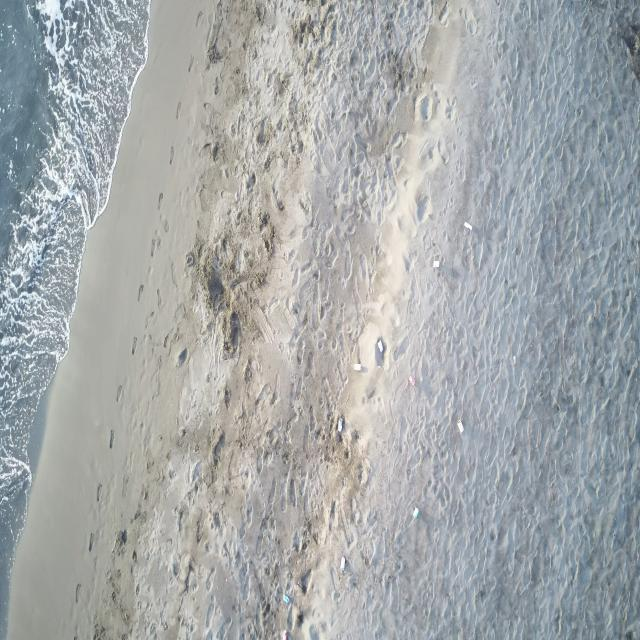Garbage: (375, 336, 384, 366), (336, 415, 344, 432), (375, 337, 384, 352), (108, 428, 114, 447), (456, 417, 463, 432), (283, 592, 291, 604), (407, 375, 415, 386), (352, 363, 362, 371), (464, 220, 471, 230), (412, 507, 419, 517), (340, 555, 344, 571), (280, 631, 287, 639), (432, 260, 439, 267), (512, 355, 515, 364)
